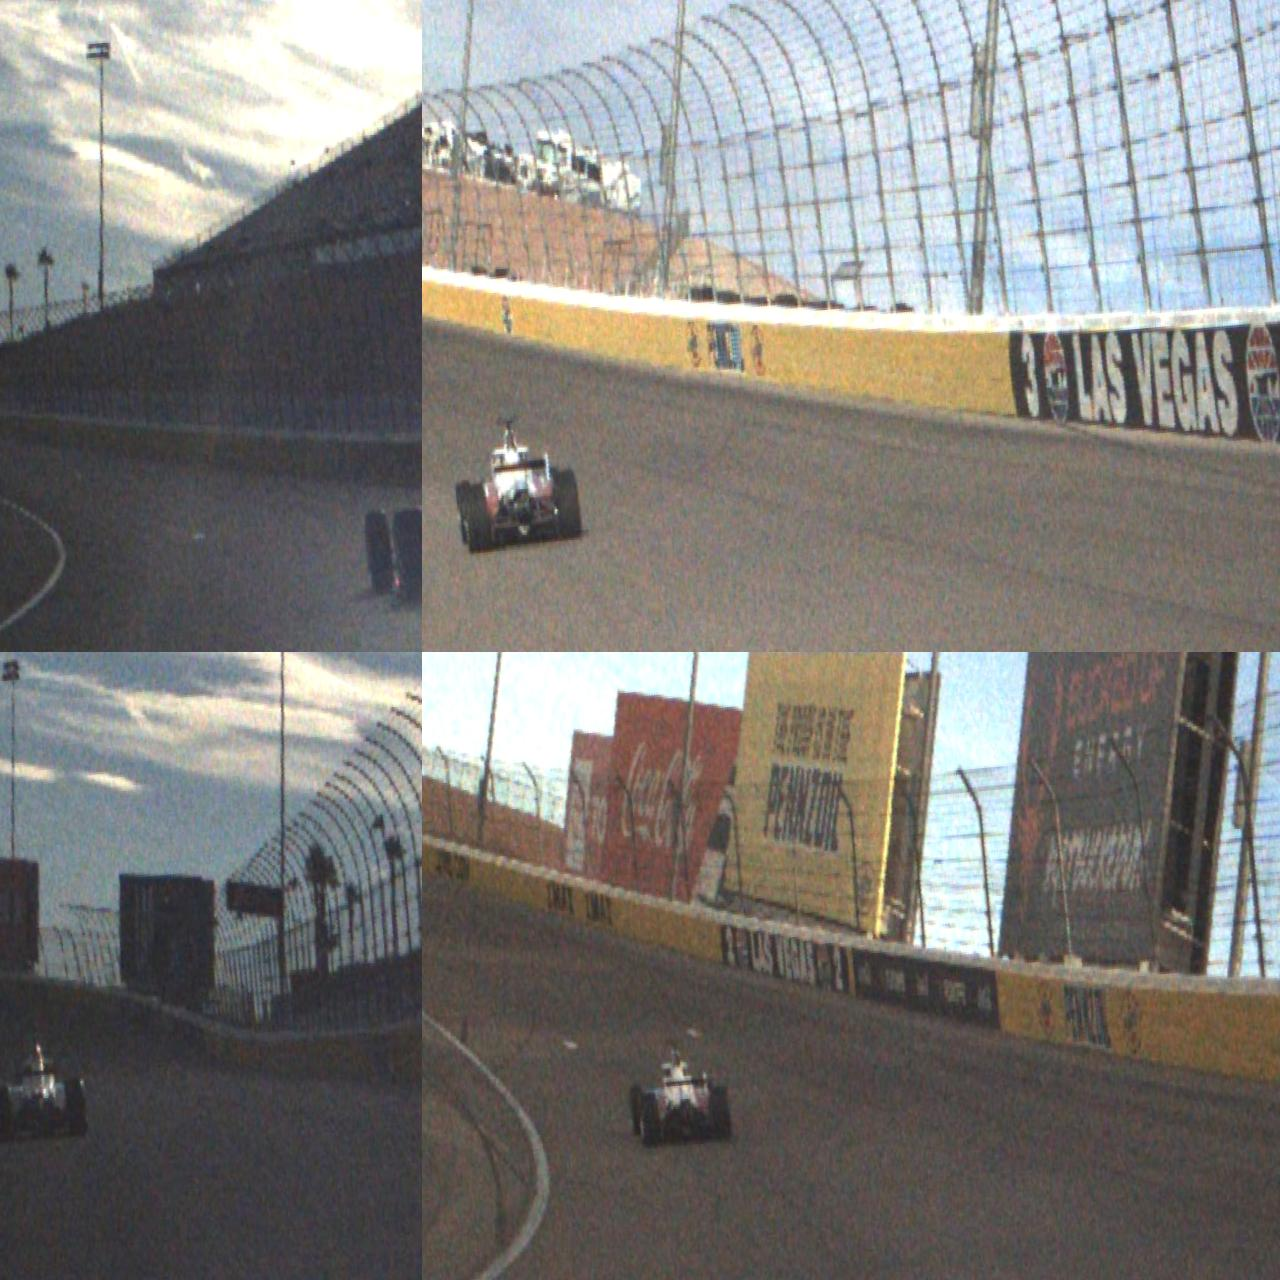AV: (450, 411, 583, 557), (355, 413, 422, 612), (624, 1034, 734, 1151), (0, 1034, 89, 1145)
Wheel: (392, 508, 422, 602), (362, 508, 395, 595), (553, 470, 583, 542), (463, 484, 490, 554), (64, 1076, 89, 1138), (456, 481, 477, 546), (639, 1092, 660, 1151), (712, 1085, 733, 1144), (627, 1083, 647, 1138), (0, 1084, 13, 1145)
